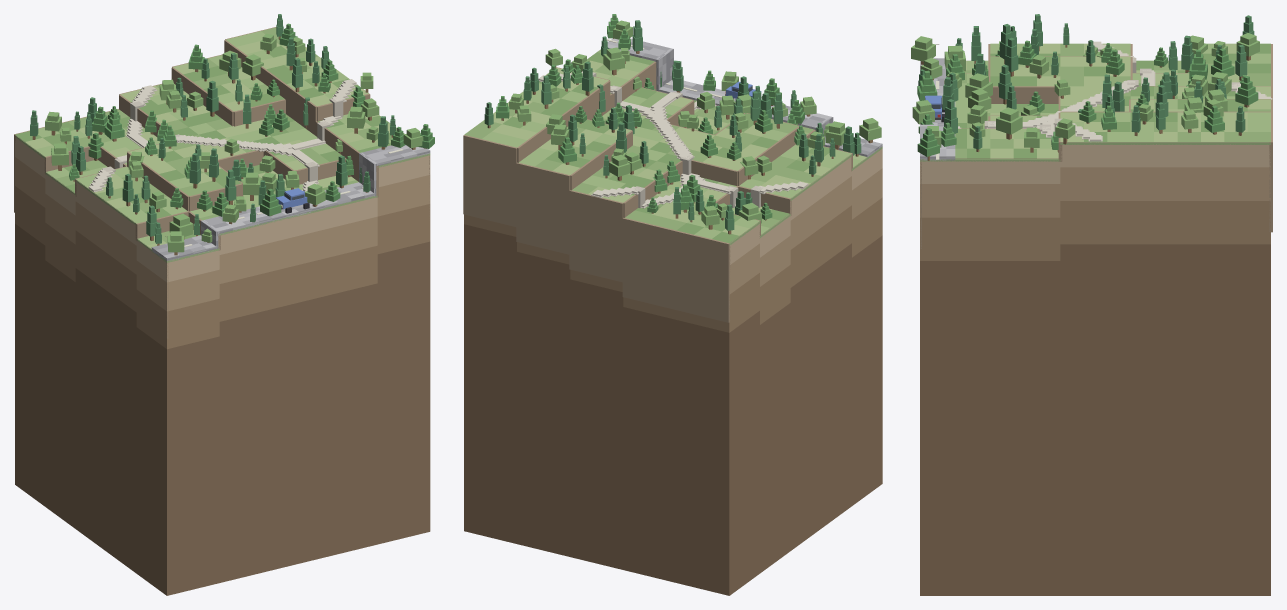
File: block_2_permeable_10.glb
3 renders of one model, left to right at view 1: azimuth 30°, elevation 25°; view 2: azimuth 150°, elevation 25°; view 3: azimuth 270°, elevation 25°, orthographic. The views are drawn at different scales.
Parts seen in each view (by area): view 1: Patch_UpperLeft_b06_PP, Ghats_UpperLeft_b06_PP, Roads_UpperLeft_b06_PP; view 2: Patch_UpperLeft_b06_PP, Ghats_UpperLeft_b06_PP, Roads_UpperLeft_b06_PP; view 3: Patch_UpperLeft_b06_PP, Ghats_UpperLeft_b06_PP, Roads_UpperLeft_b06_PP, ULG_T192_PP, ULG_T108_PP, ULG_T175_PP.
Part boxes in pixels (box(x1,y1,x2,y2)): Patch_UpperLeft_b06_PP: box(15, 137, 430, 595); Ghats_UpperLeft_b06_PP: box(14, 27, 430, 338); Roads_UpperLeft_b06_PP: box(151, 145, 430, 260); Patch_UpperLeft_b06_PP: box(464, 149, 882, 595); Ghats_UpperLeft_b06_PP: box(463, 49, 882, 322); Roads_UpperLeft_b06_PP: box(607, 38, 882, 157); Patch_UpperLeft_b06_PP: box(920, 144, 1270, 595); Ghats_UpperLeft_b06_PP: box(920, 41, 1272, 248); Roads_UpperLeft_b06_PP: box(920, 58, 955, 160); ULG_T192_PP: box(996, 107, 1022, 139); ULG_T108_PP: box(911, 36, 935, 64); ULG_T175_PP: box(1235, 75, 1258, 107).
Size of the model in its own units: 9.77 by 14.67 by 9.79.
